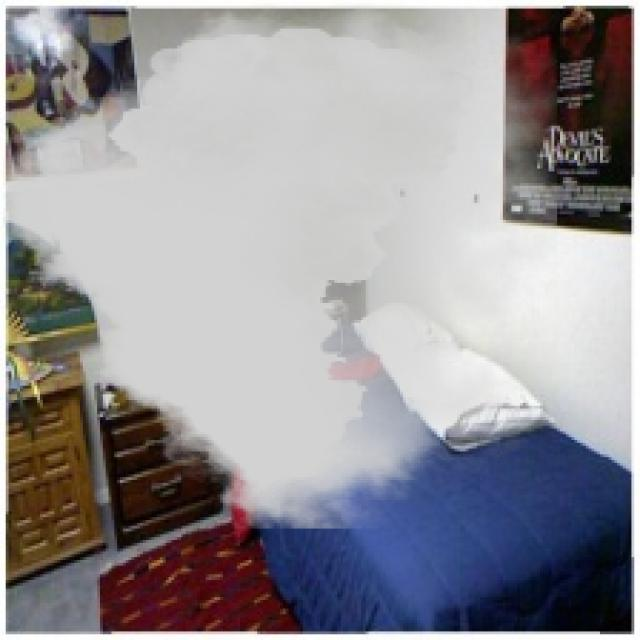smoke: (3, 3, 557, 528)
